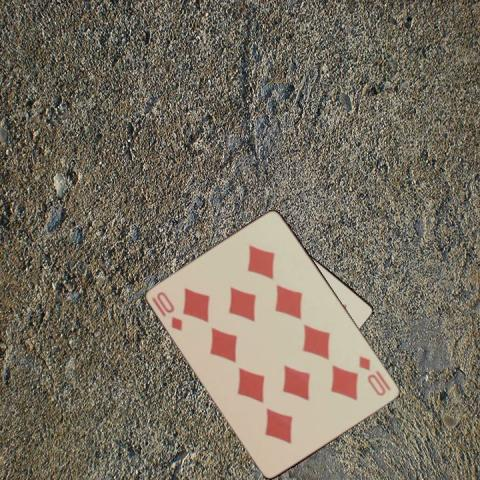10d: (356, 353, 393, 398), (153, 288, 185, 332)
